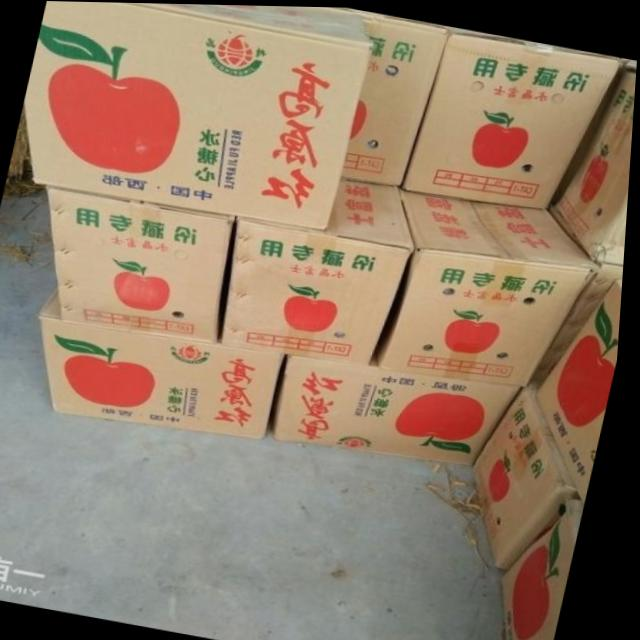box: (25, 1, 377, 230), (379, 189, 604, 386), (404, 25, 626, 208), (42, 289, 288, 438), (224, 178, 418, 365), (47, 185, 238, 343), (275, 350, 523, 464), (477, 387, 585, 572), (538, 277, 626, 504), (343, 9, 448, 186), (551, 56, 638, 263), (509, 496, 590, 640)
